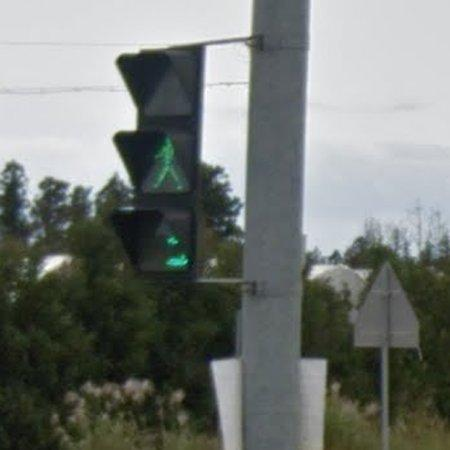traffic lights: (113, 45, 205, 279)
